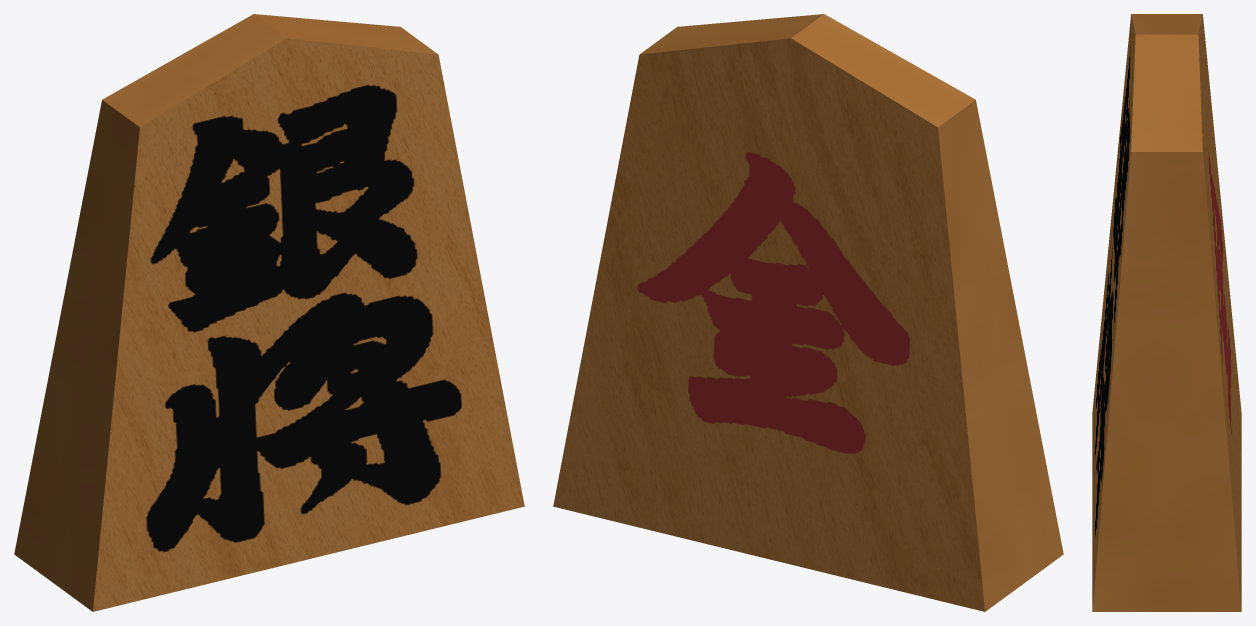
File: gin.glb
The picture shows the model from 3 angles, left to right: view 1: azimuth 30°, elevation 25°; view 2: azimuth 150°, elevation 25°; view 3: azimuth 270°, elevation 25°; orthographic projection. The views are drawn at different scales.
Visible parts, largest first — view 1: 銀; view 2: 銀; view 3: 銀.
Part boxes in pixels (left/top/right/bottom): 銀: left=14, top=14, right=524, bottom=611; 銀: left=553, top=14, right=1063, bottom=611; 銀: left=1092, top=14, right=1241, bottom=611.
Bounding box in the file's own units: 2.6 × 2.9 × 0.82.
Materials: 1 (1 with a texture image).
